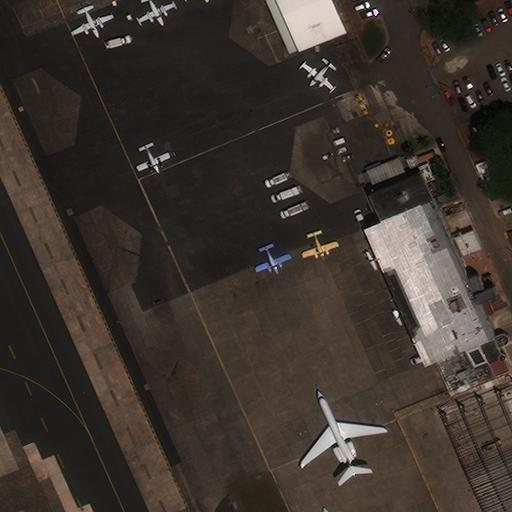Medium Civil Transport: (300, 389, 384, 476)
Small Civil Transport: (72, 8, 113, 37), (303, 231, 338, 260), (256, 245, 291, 273), (299, 62, 330, 93), (140, 0, 176, 25), (138, 144, 169, 173)
